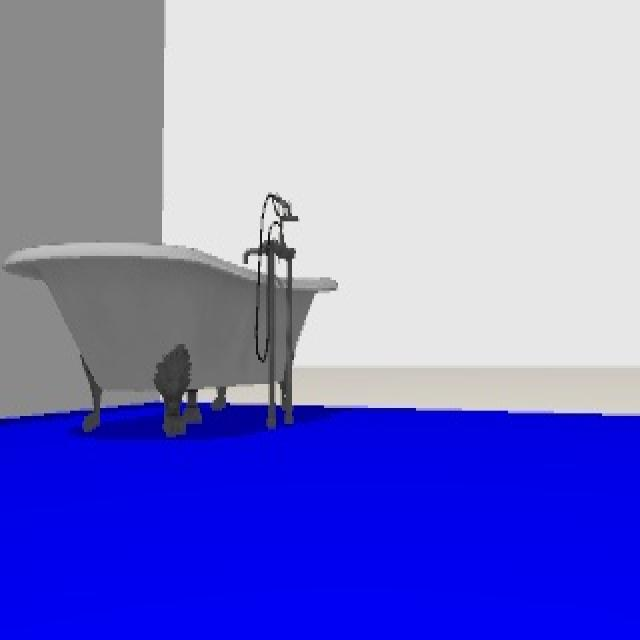bathtub: (3, 192, 343, 432)
